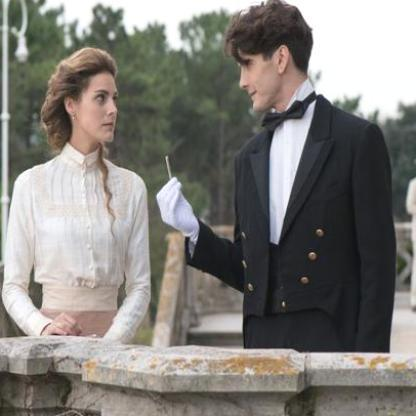cigarette: (164, 154, 174, 180)
person: (228, 0, 387, 355), (12, 46, 144, 340)
